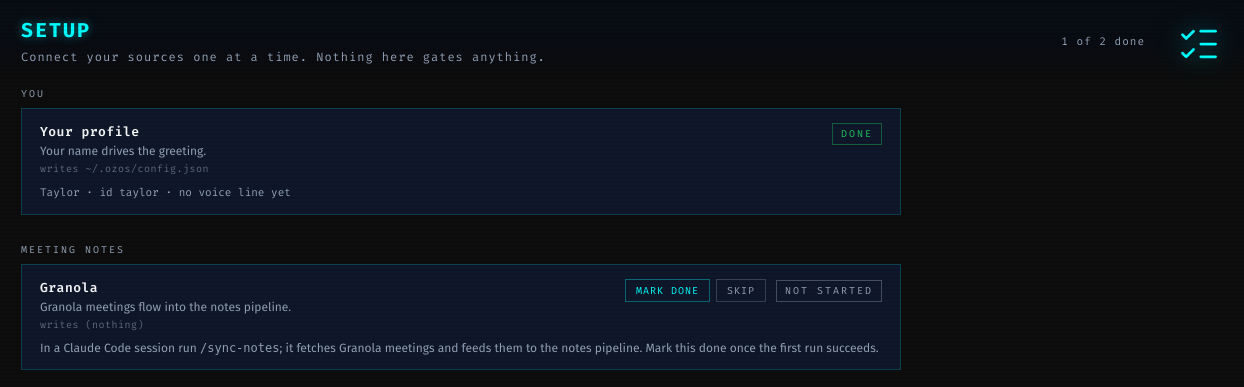
Scenario: clicking Skip updates the row from the backend response
Expected: the text "Granola" is shown, [40,279,98,296]
Click the button "Skip" at (741, 290), box [716,279,766,302]
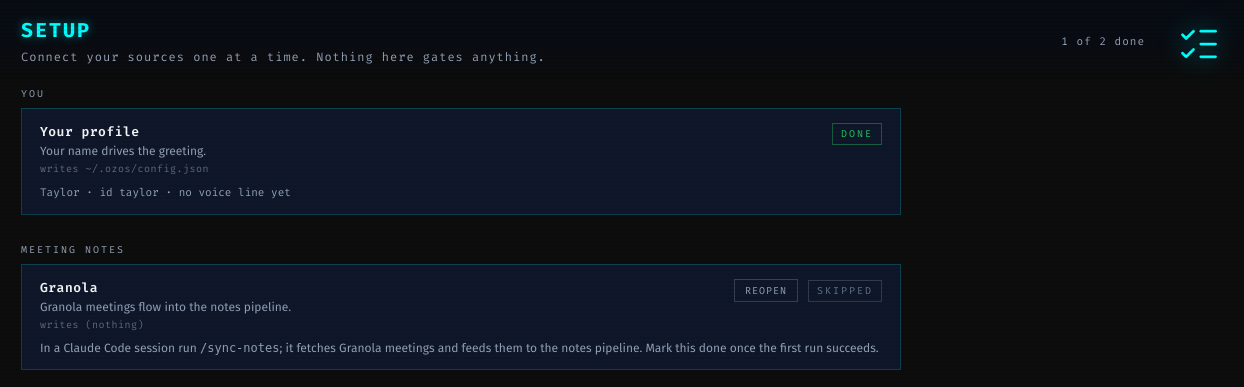
Expected: the text "Skipped" is shown, [808,280,882,302]
